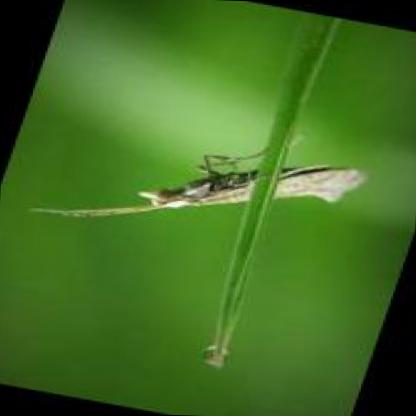plutella: (15, 149, 378, 223)
